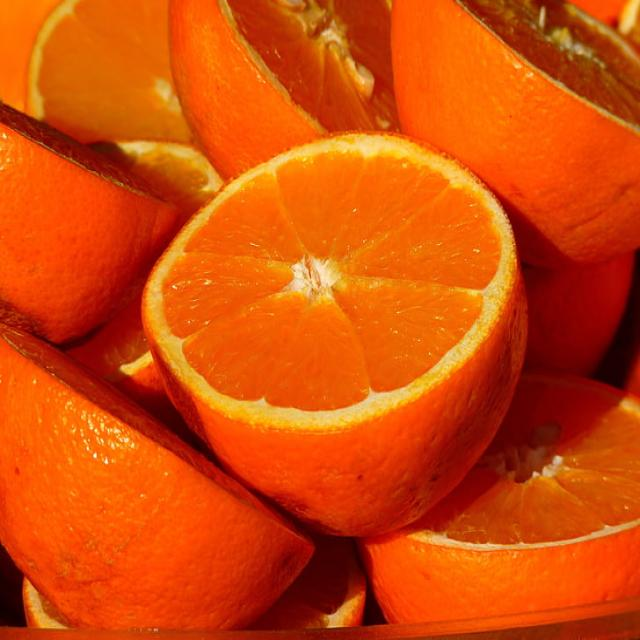orange: (145, 132, 537, 528)
